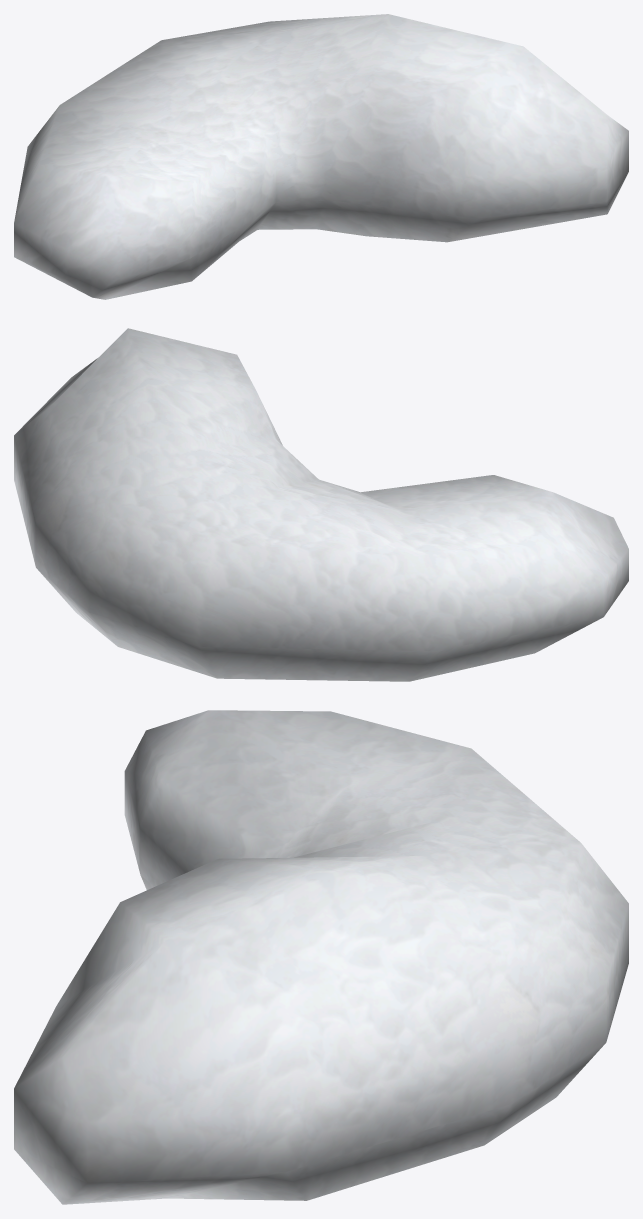
File: snow05.fbx
The picture shows the model from 3 angles, top to bottom: view 1: azimuth 30°, elevation 25°; view 2: azimuth 150°, elevation 25°; view 3: azimuth 270°, elevation 25°; orthographic projection. The views are drawn at different scales.
Parts seen in each view (by area): view 1: snow05; view 2: snow05; view 3: snow05.
Part boxes in pixels (x1,y1,x2,y2): snow05: [14, 14, 628, 299]; snow05: [14, 328, 628, 681]; snow05: [14, 710, 628, 1204].
Size of the model in its own units: 172 by 58 by 112.
